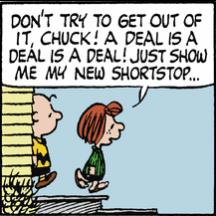charlie: (31, 92, 62, 188)
